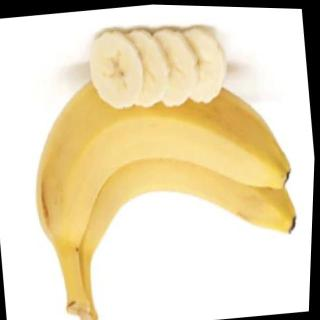banana: (20, 45, 304, 255), (52, 98, 306, 264)
